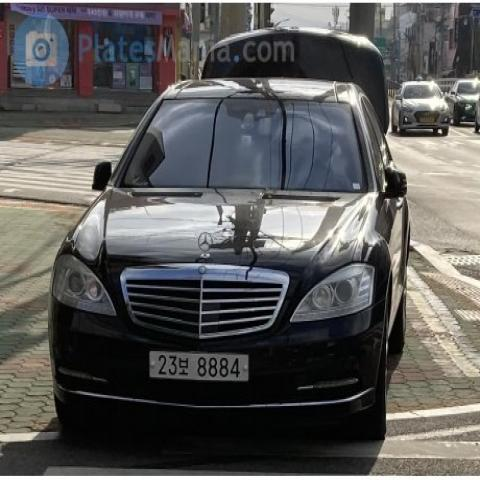LP: (141, 341, 257, 394)
